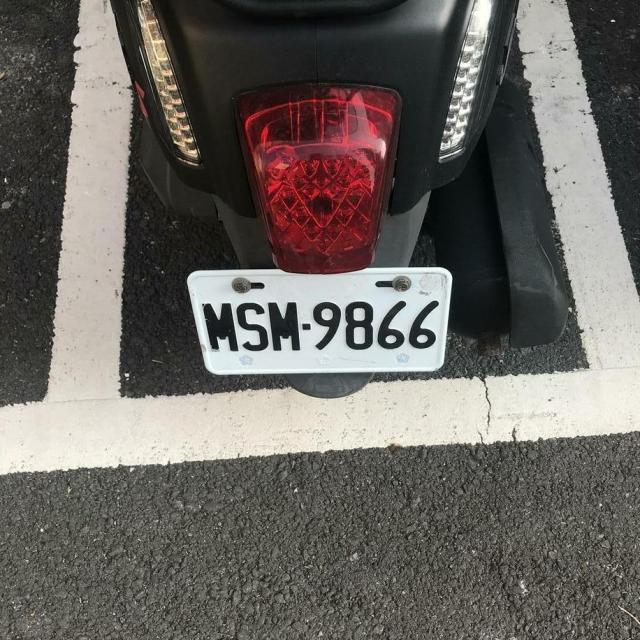W: (185, 260, 454, 382)
